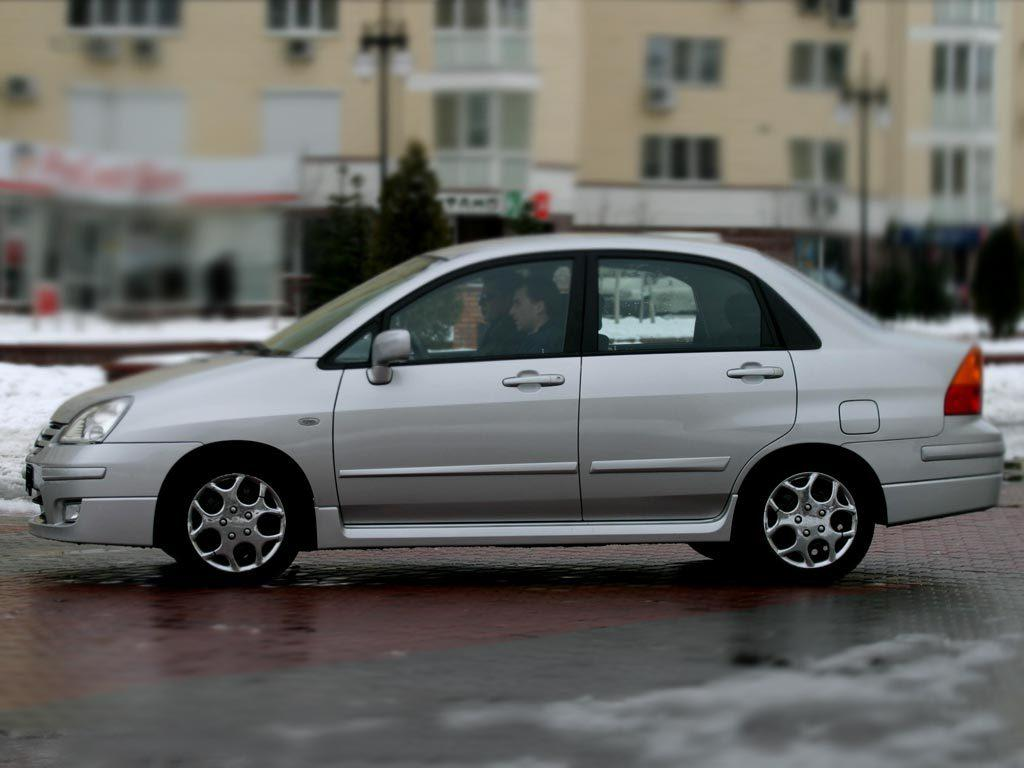Car: (1, 203, 1024, 629)
